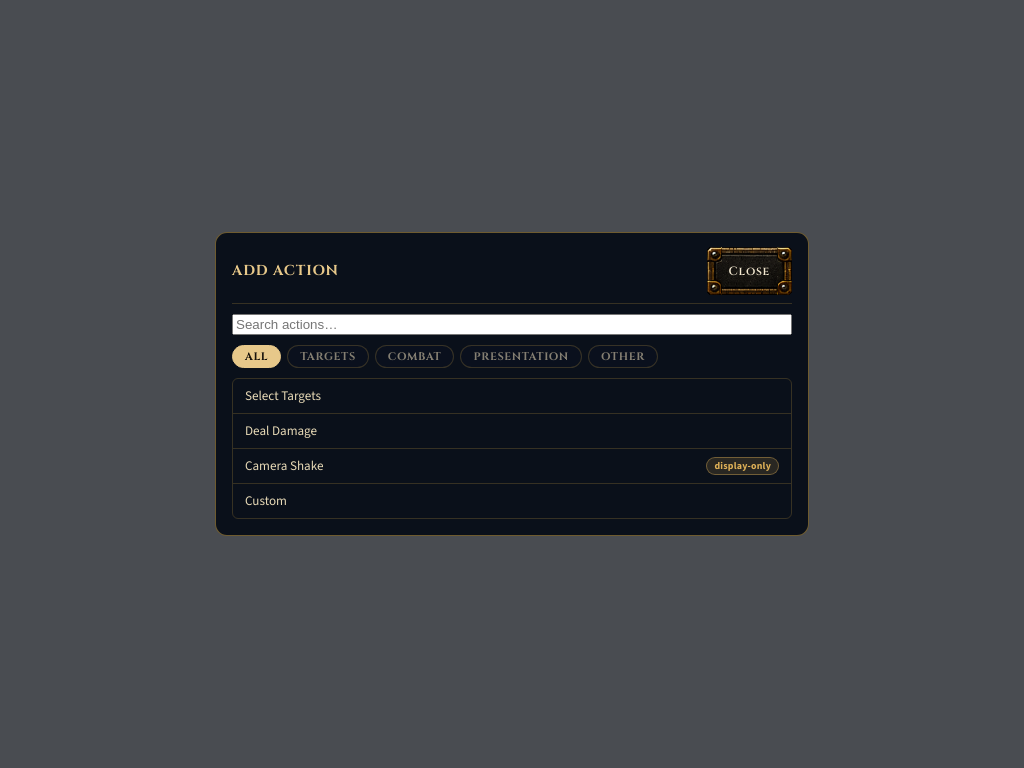
Test: AddActionDialog › filters entries by category chip
Click the button with test id "add-action-chip" showing "Combat" at x=415, y=356, box [375,345,454,368]
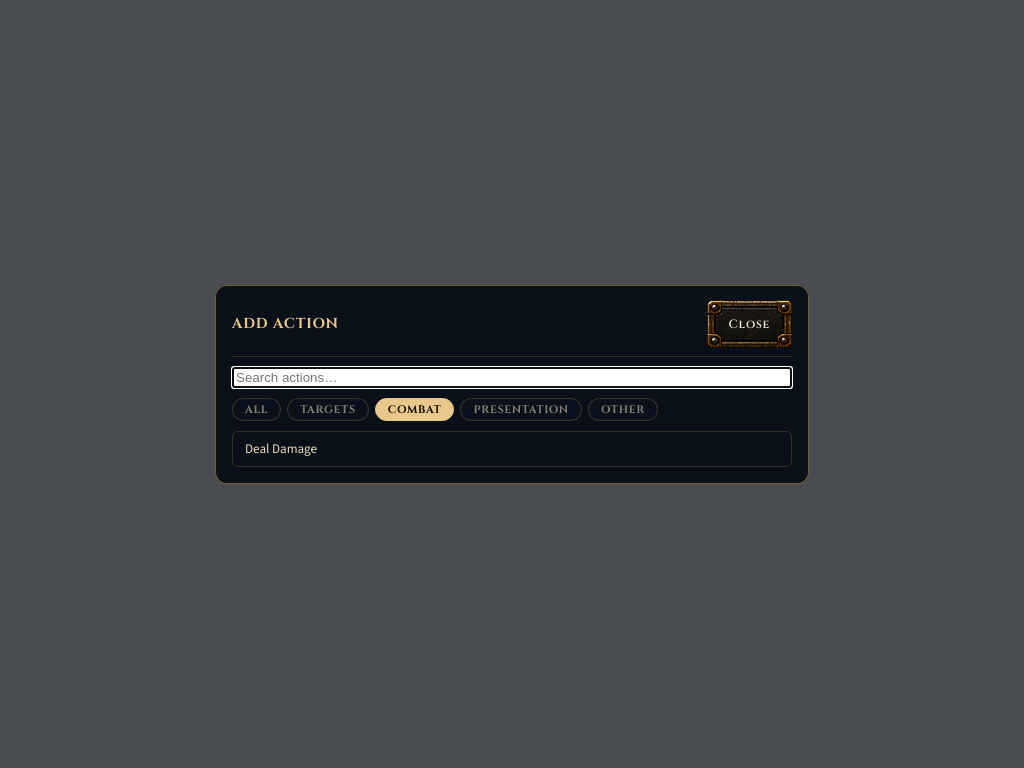
expect the button with test id "add-action-entry" reads "Deal Damage": met, box [233,432,791,466]
expect the number of buttons with test id "add-action-entry" is 1: met, box [233,432,791,466]
